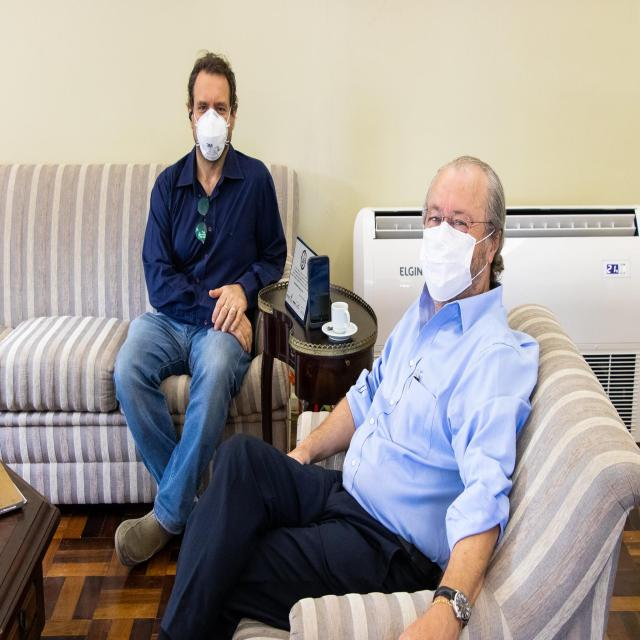Mask: (420, 224, 477, 301), (195, 109, 234, 164)
